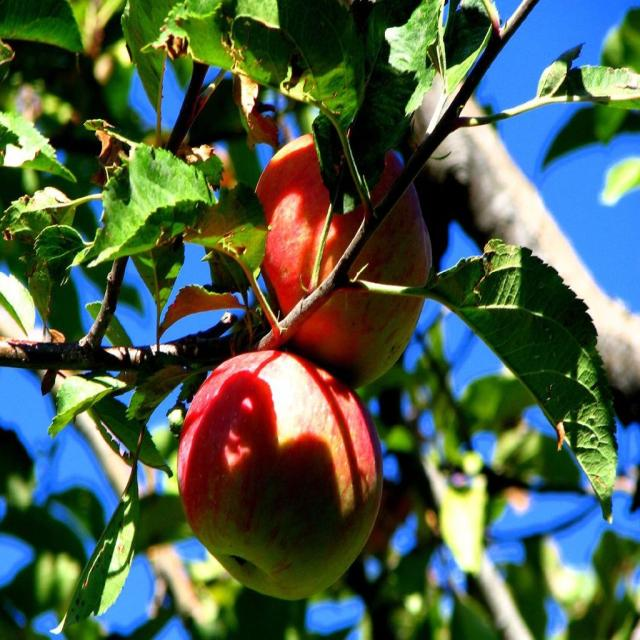Healty Apple: (175, 350, 385, 604), (255, 133, 435, 396)
